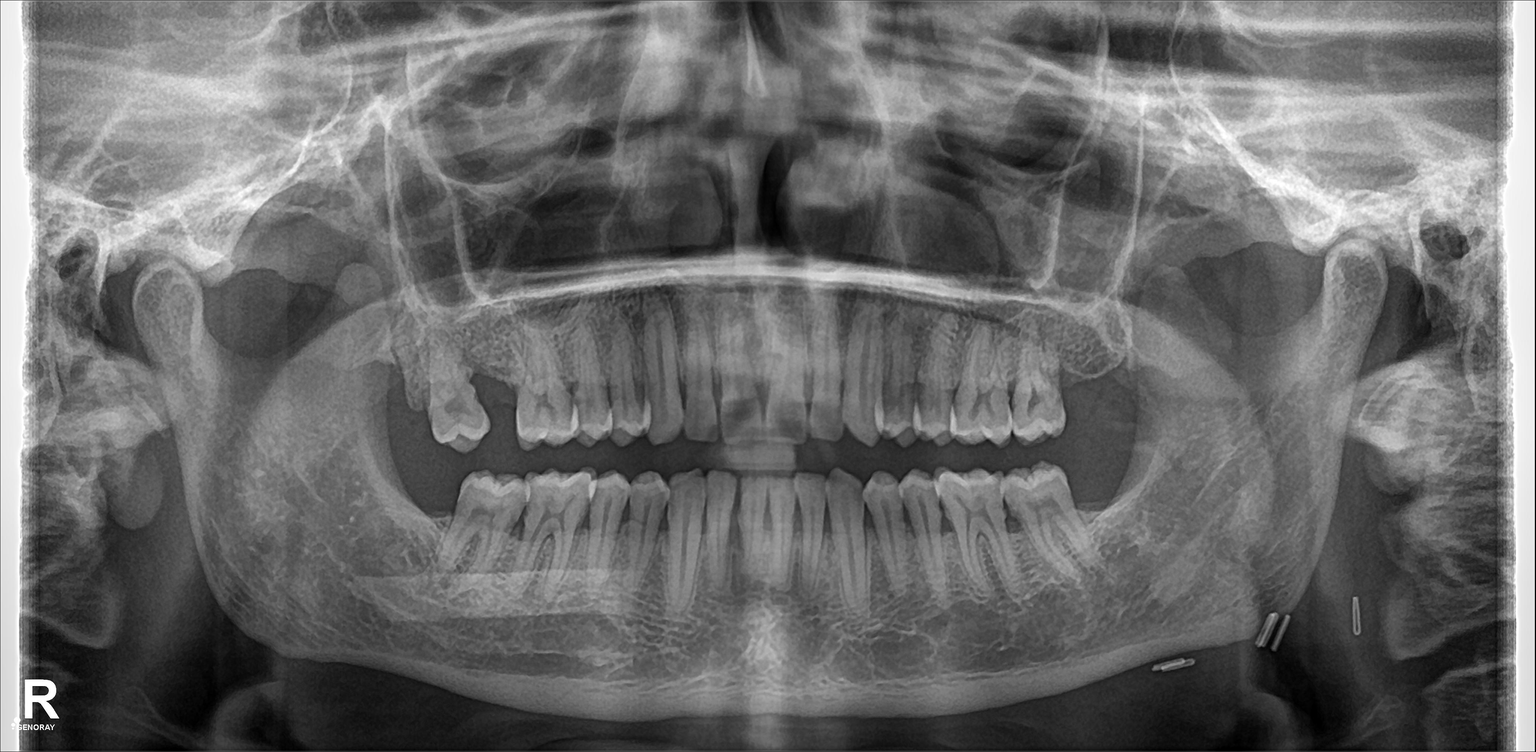Missing Tooth: (1067, 460, 1123, 548), (370, 344, 419, 441), (1054, 339, 1110, 422), (397, 471, 453, 544), (482, 348, 524, 439)
